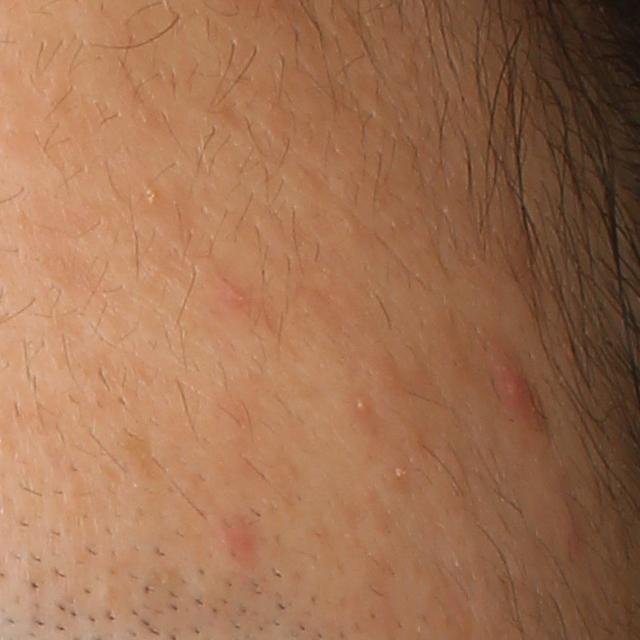papule: (494, 346, 540, 419)
